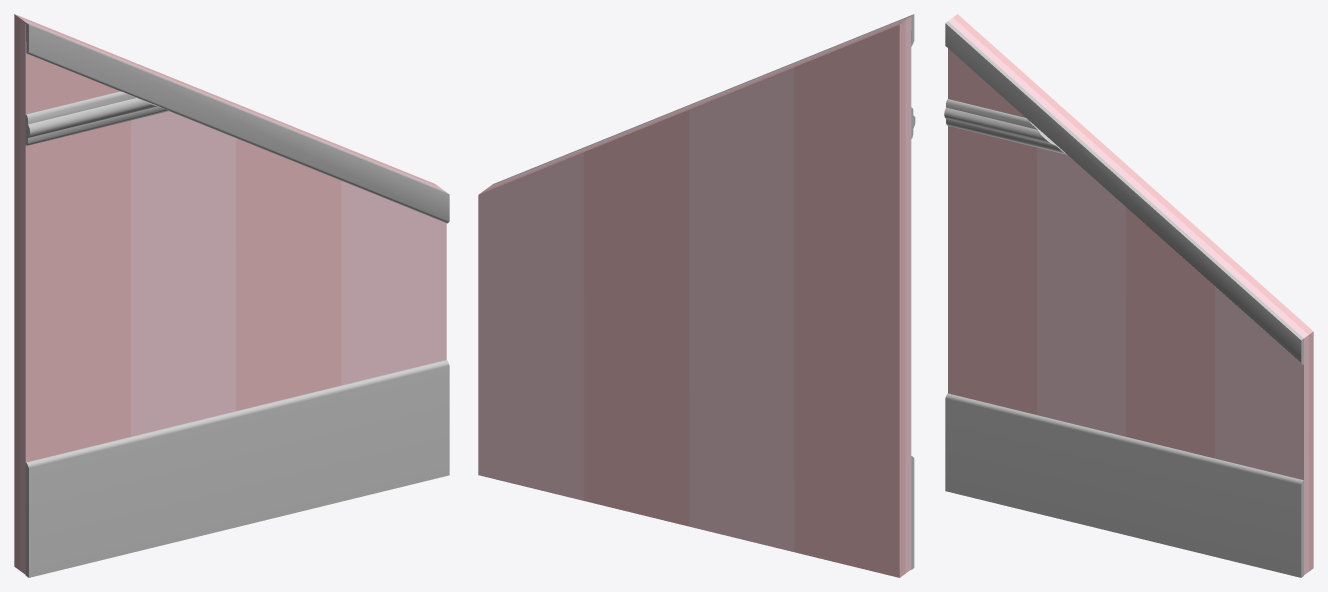
File: Wall_Interior_Angled_2.fbx
The picture shows the model from 3 angles, left to right: view 1: azimuth 30°, elevation 25°; view 2: azimuth 150°, elevation 25°; view 3: azimuth 330°, elevation 25°; orthographic projection. The views are drawn at different scales.
Visible parts, largest first — view 1: Wall_Interior_Angled; view 2: Wall_Interior_Angled; view 3: Wall_Interior_Angled.
Boxes of the visible parts, x1,y1,x2,y2 form: Wall_Interior_Angled: (14,14,449,577); Wall_Interior_Angled: (478,14,915,577); Wall_Interior_Angled: (944,14,1313,577).
Bounding box in the file's own units: 1 × 1.26 × 0.0649.
